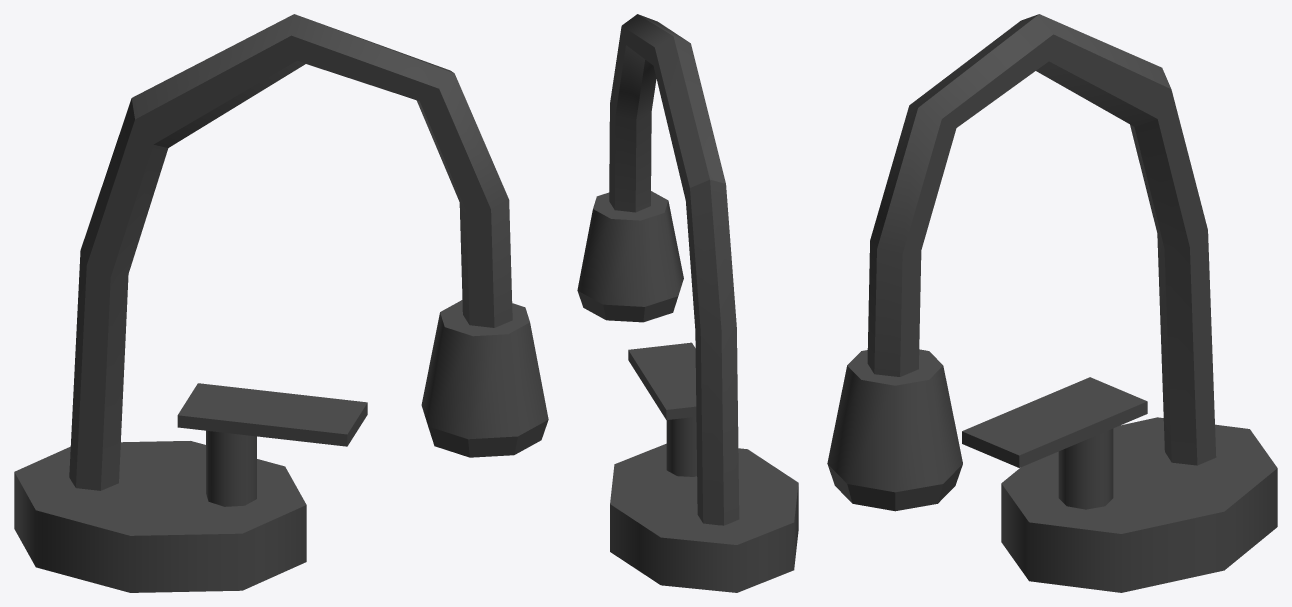
The model's file is Itr_Sink_Tap_01.FBX.
3 views of the same model, side by side, from view 1: azimuth 30°, elevation 25°; view 2: azimuth 150°, elevation 25°; view 3: azimuth 270°, elevation 25° (orthographic). The views are drawn at different scales.
Visible parts, largest first — view 1: Itr_Sink_Tap_01; view 2: Itr_Sink_Tap_01; view 3: Itr_Sink_Tap_01.
Part boxes in pixels (<box>): Itr_Sink_Tap_01: <box>14,14,548,592</box>; Itr_Sink_Tap_01: <box>577,14,798,592</box>; Itr_Sink_Tap_01: <box>827,14,1277,592</box>.
Size of the model in its own units: 8.33 by 11.46 by 8.3.
